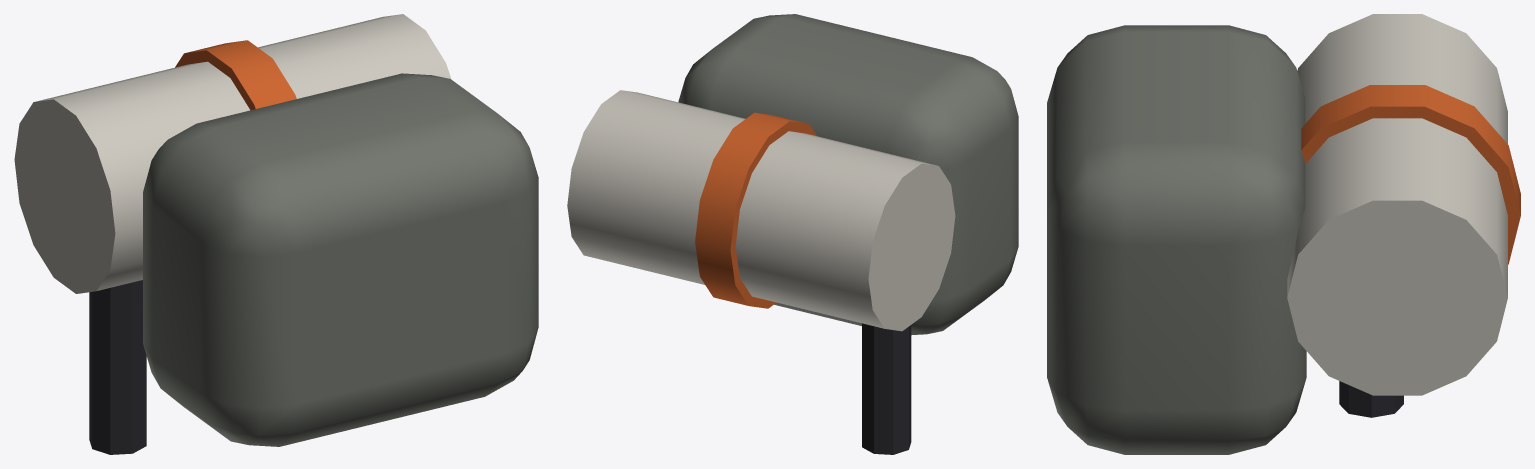
The model's file is mo_coolant.glb.
3 renders of one model, left to right at view 1: azimuth 30°, elevation 25°; view 2: azimuth 150°, elevation 25°; view 3: azimuth 270°, elevation 25°, orthographic. The views are drawn at different scales.
Parts seen in each view (by area): view 1: mo_coolant; view 2: mo_coolant; view 3: mo_coolant.
Boxes of the visible parts, box(x1,y1,x2,y2) form: mo_coolant: box(14, 14, 538, 454); mo_coolant: box(567, 14, 1018, 454); mo_coolant: box(1047, 14, 1520, 454).
Bounding box in the file's own units: 0.1462 × 0.1419 × 0.157.
